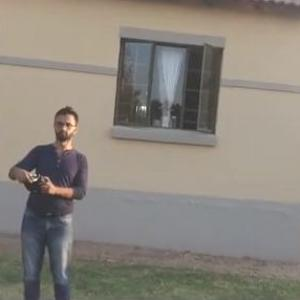follow: (6, 93, 94, 299)
